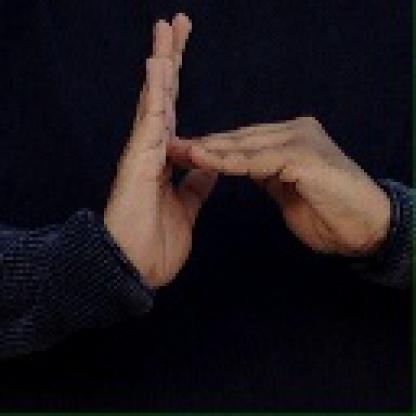Z: (88, 12, 378, 292)
